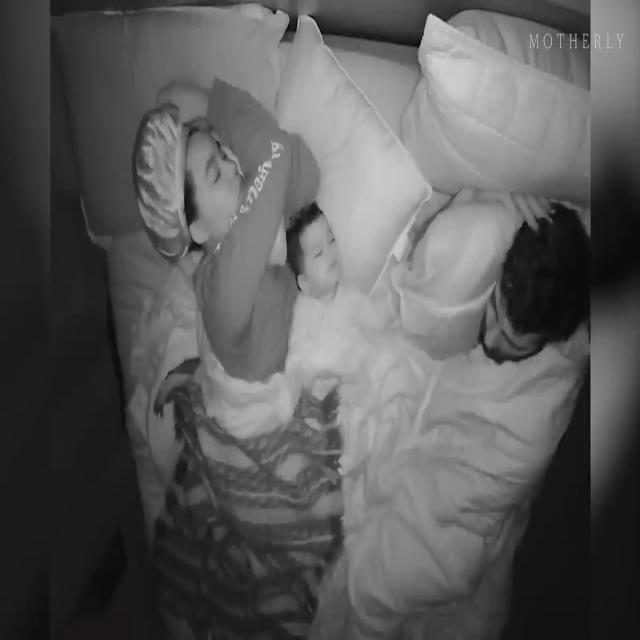baby: (285, 206, 395, 357)
